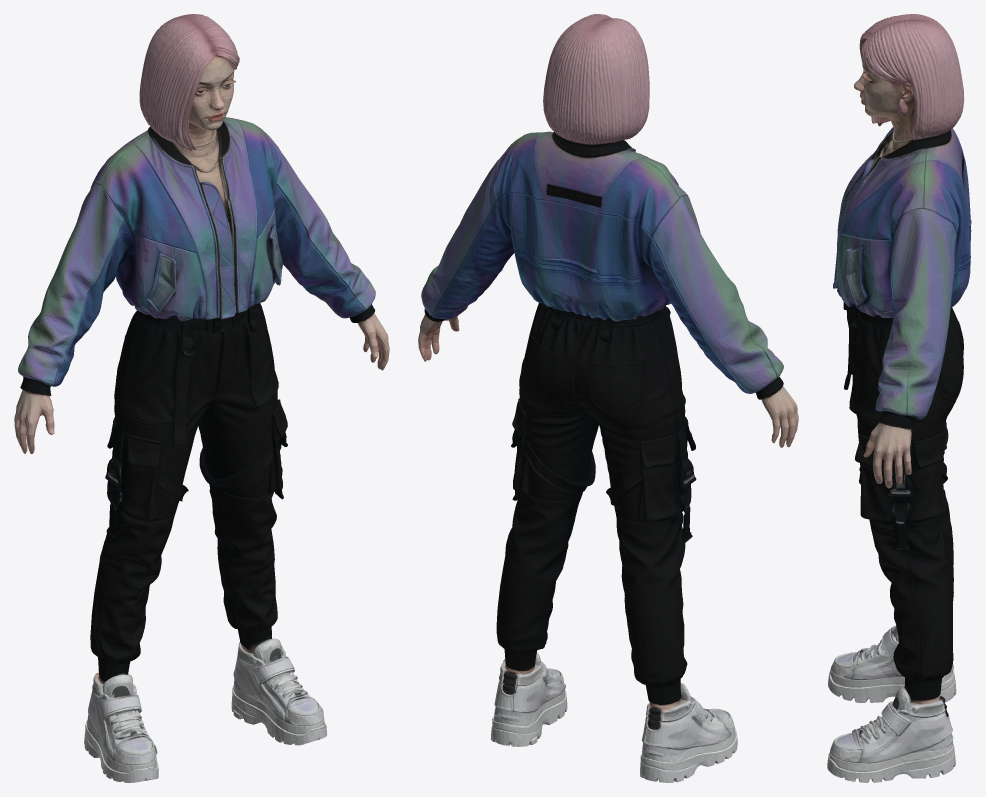
File: patient_lili.glb
3 renders of one model, left to right at view 1: azimuth 30°, elevation 25°; view 2: azimuth 150°, elevation 25°; view 3: azimuth 270°, elevation 25°, orthographic.
Parts seen in each view (by area): view 1: world; view 2: world; view 3: world.
Boxes of the visible parts, bbox=[...] form: world: bbox=[14, 14, 389, 782]; world: bbox=[418, 14, 798, 782]; world: bbox=[827, 14, 971, 782].
Size of the model in its own units: 0.9372 by 1.75 by 0.3199.
Materials: 1 (1 with a texture image).
